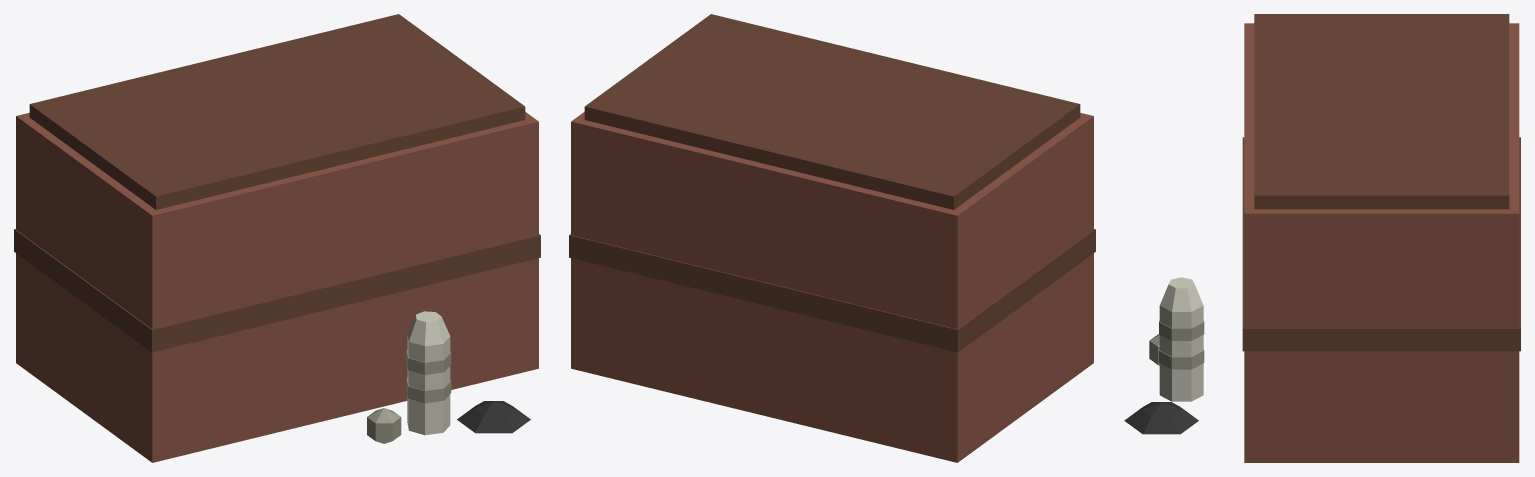
The model's file is ce_ammo2_paper_blunder_c.obj.
The picture shows the model from 3 angles, left to right: view 1: azimuth 30°, elevation 25°; view 2: azimuth 150°, elevation 25°; view 3: azimuth 270°, elevation 25°; orthographic projection.
Visible parts, largest first — view 1: ce_ammo2_paper_blunder_c_0, ce_ammo2_paper_blunder_c_1, ce_ammo2_paper_blunder_c_2, ce_ammo2_paper_blunder_c_10, ce_ammo2_paper_blunder_c_3, ce_ammo2_paper_blunder_c_8, ce_ammo2_paper_blunder_c_9, ce_ammo2_paper_blunder_c_7, ce_ammo2_paper_blunder_c_5, ce_ammo2_paper_blunder_c_6, ce_ammo2_paper_blunder_c_4; view 2: ce_ammo2_paper_blunder_c_0, ce_ammo2_paper_blunder_c_1, ce_ammo2_paper_blunder_c_2; view 3: ce_ammo2_paper_blunder_c_0, ce_ammo2_paper_blunder_c_1, ce_ammo2_paper_blunder_c_2, ce_ammo2_paper_blunder_c_10, ce_ammo2_paper_blunder_c_3, ce_ammo2_paper_blunder_c_8, ce_ammo2_paper_blunder_c_7, ce_ammo2_paper_blunder_c_5, ce_ammo2_paper_blunder_c_4, ce_ammo2_paper_blunder_c_6.
Boxes of the visible parts, x1,y1,x2,y2 form: ce_ammo2_paper_blunder_c_0: [16, 112, 538, 462]; ce_ammo2_paper_blunder_c_1: [29, 14, 525, 209]; ce_ammo2_paper_blunder_c_2: [14, 229, 540, 352]; ce_ammo2_paper_blunder_c_10: [457, 401, 530, 433]; ce_ammo2_paper_blunder_c_3: [407, 394, 450, 435]; ce_ammo2_paper_blunder_c_8: [407, 311, 450, 346]; ce_ammo2_paper_blunder_c_9: [367, 408, 401, 443]; ce_ammo2_paper_blunder_c_7: [407, 334, 450, 362]; ce_ammo2_paper_blunder_c_5: [407, 366, 450, 390]; ce_ammo2_paper_blunder_c_6: [406, 349, 451, 374]; ce_ammo2_paper_blunder_c_4: [406, 378, 451, 403]; ce_ammo2_paper_blunder_c_0: [571, 112, 1093, 462]; ce_ammo2_paper_blunder_c_1: [584, 14, 1080, 209]; ce_ammo2_paper_blunder_c_2: [569, 229, 1095, 352]; ce_ammo2_paper_blunder_c_0: [1244, 23, 1519, 462]; ce_ammo2_paper_blunder_c_1: [1254, 14, 1509, 209]; ce_ammo2_paper_blunder_c_2: [1242, 137, 1520, 351]; ce_ammo2_paper_blunder_c_10: [1124, 402, 1198, 434]; ce_ammo2_paper_blunder_c_3: [1159, 363, 1203, 401]; ce_ammo2_paper_blunder_c_8: [1160, 277, 1203, 311]; ce_ammo2_paper_blunder_c_7: [1159, 305, 1203, 328]; ce_ammo2_paper_blunder_c_5: [1159, 335, 1203, 356]; ce_ammo2_paper_blunder_c_4: [1159, 349, 1204, 369]; ce_ammo2_paper_blunder_c_6: [1159, 321, 1204, 340].
Size of the model in its own units: 0.906 by 0.58 by 0.793.
